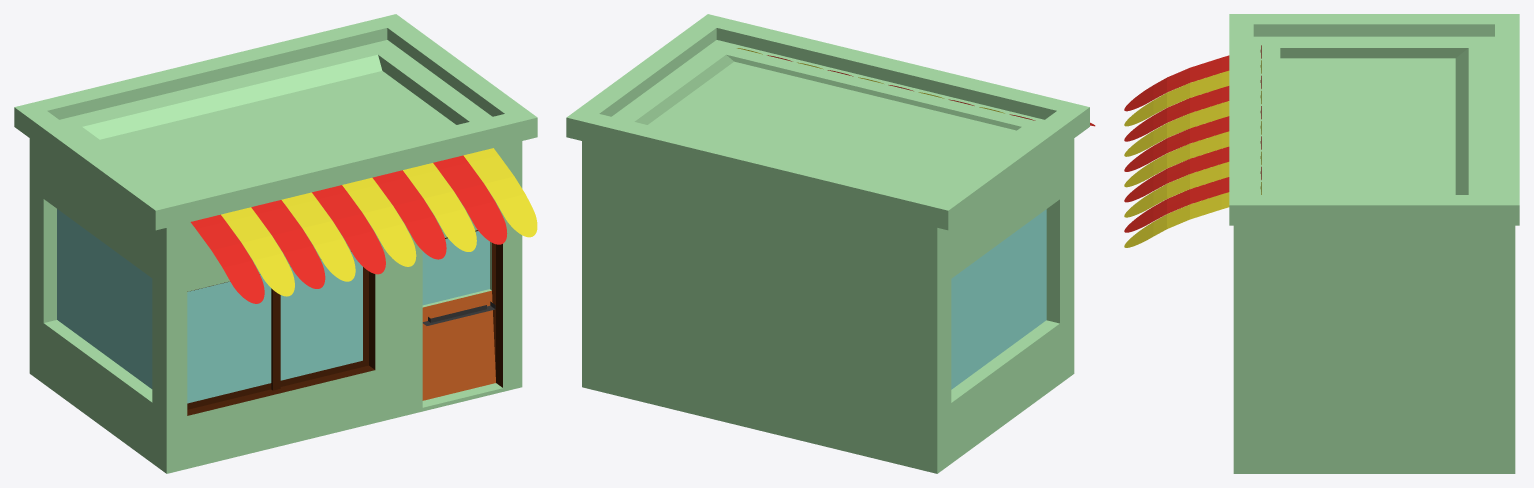
File: Caffe.fbx
3 renders of one model, left to right at view 1: azimuth 30°, elevation 25°; view 2: azimuth 150°, elevation 25°; view 3: azimuth 270°, elevation 25°, orthographic. The views are drawn at different scales.
Parts seen in each view (by area): view 1: Cube, Circle; view 2: Cube; view 3: Cube, Circle.
Boxes of the visible parts, bbox=[...] form: Cube: bbox=[14, 14, 537, 473]; Circle: bbox=[190, 148, 537, 303]; Cube: bbox=[566, 14, 1089, 473]; Cube: bbox=[1229, 14, 1519, 473]; Circle: bbox=[1124, 45, 1261, 247].
Size of the model in its own units: 965 by 648 by 843.
